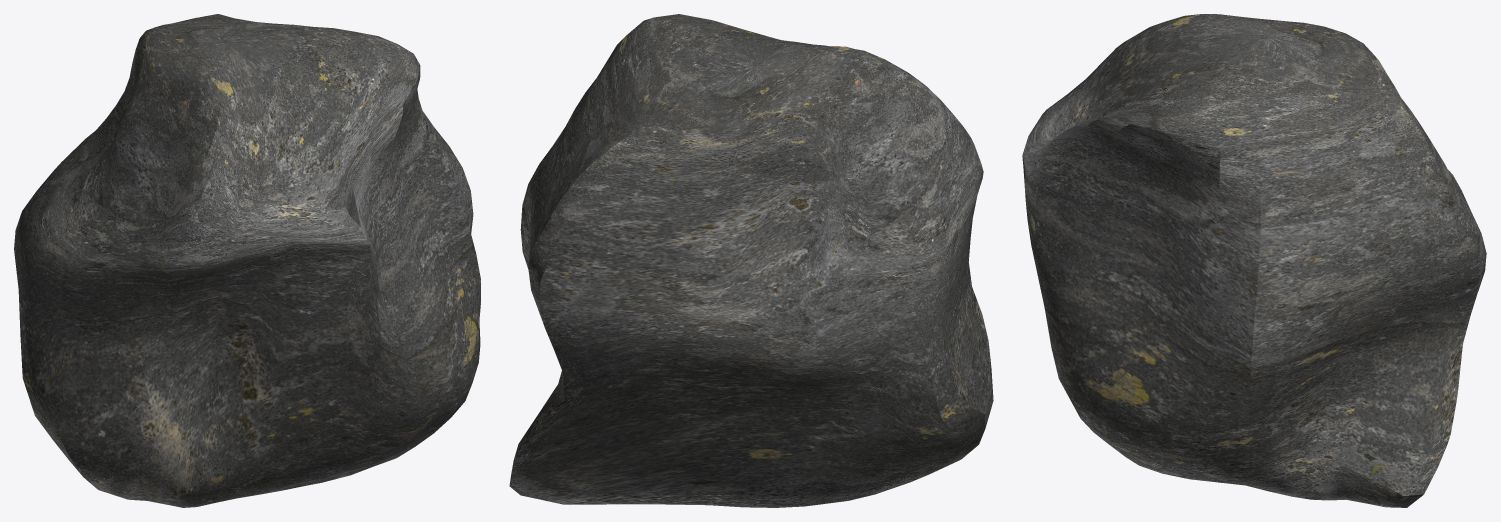
The model's file is SmallAsteroid3.fbx.
3 views of the same model, side by side, from view 1: azimuth 30°, elevation 25°; view 2: azimuth 150°, elevation 25°; view 3: azimuth 270°, elevation 25° (orthographic). The views are drawn at different scales.
Visible parts, largest first — view 1: Sphere.001; view 2: Sphere.001; view 3: Sphere.001.
Boxes of the visible parts, x1,y1,x2,y2 form: Sphere.001: [14, 14, 480, 507]; Sphere.001: [509, 14, 993, 507]; Sphere.001: [1022, 14, 1486, 507].
Bounding box in the file's own units: 28.81 × 26.61 × 27.49.
Materials: 1 (1 with a texture image).
